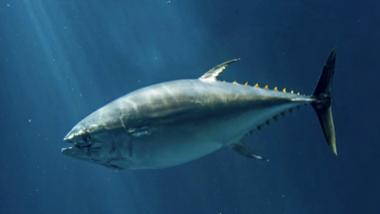Scombridae -Tunas-: (58, 44, 342, 172)
